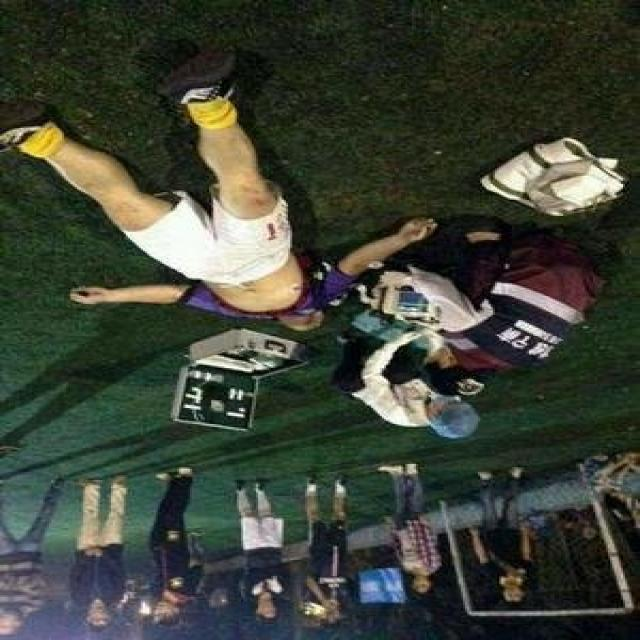nofight: (83, 59, 363, 372), (409, 212, 622, 397), (343, 324, 479, 436), (130, 456, 214, 631), (0, 466, 85, 634), (58, 475, 134, 640), (300, 468, 362, 622), (378, 457, 442, 594), (479, 464, 543, 601), (244, 473, 287, 611)
